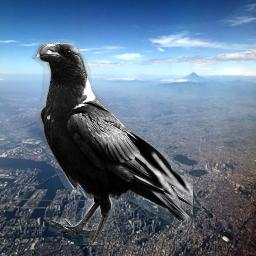Crow: (31, 39, 193, 245)
